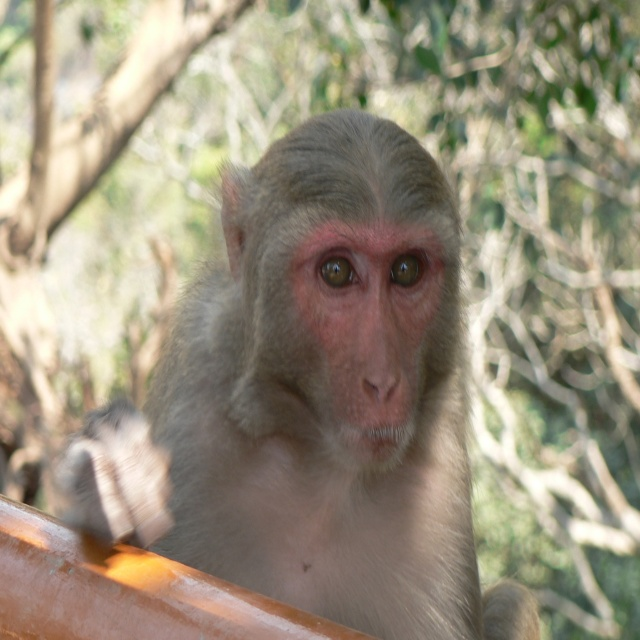Monkey: (59, 110, 540, 639)
